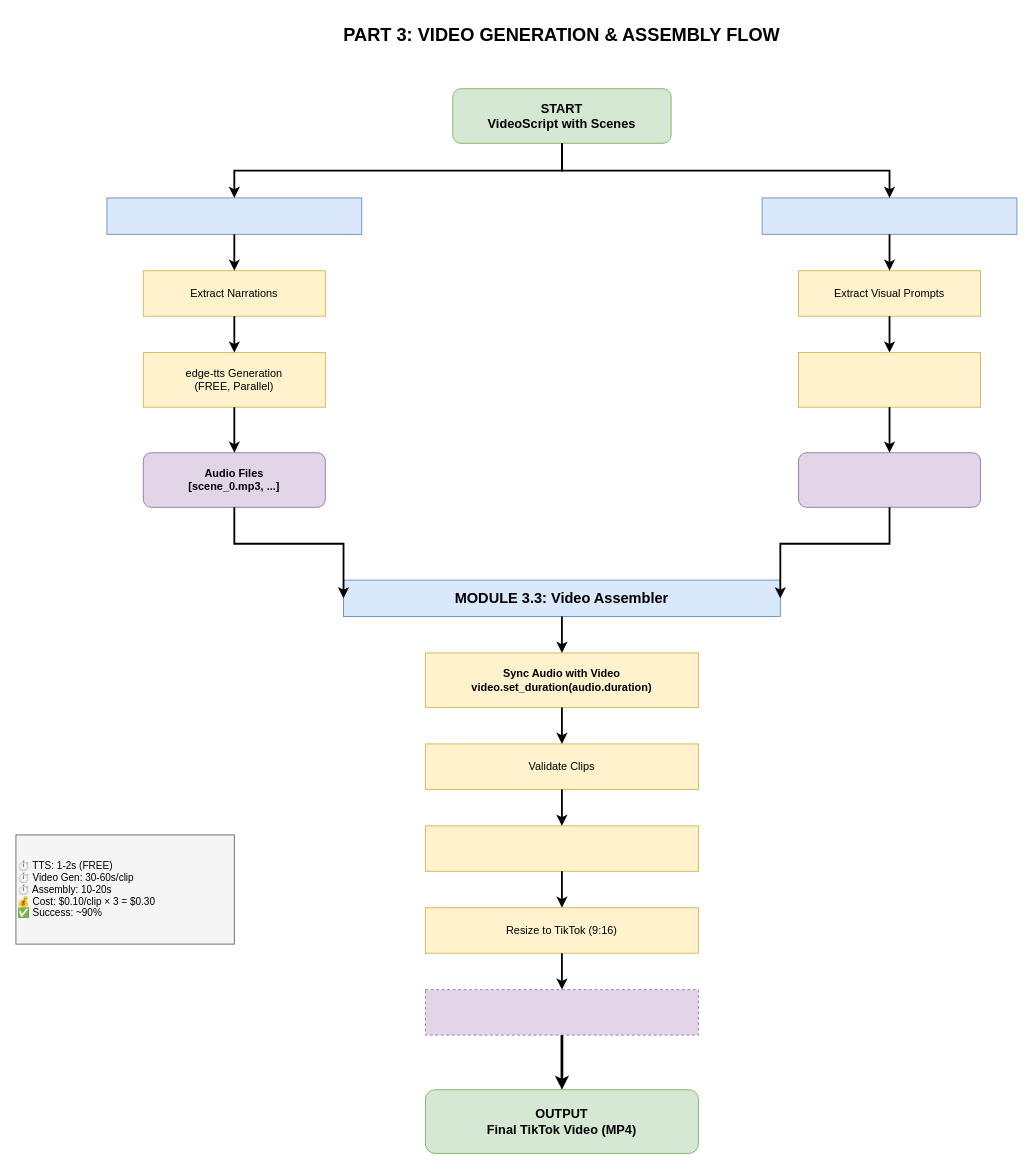
Some shapes in this 1033 by 1169 pixel diagram are drawn without their labels. The centre of each missing label's shape, as x and y in pixels:
Add Subtitles (Optional): point 561,1012
Call Veo3 API (Parallel for each scene): point 889,379
Concatenate Videos: point 561,848
MODULE 3.1: TTS Generator: point 234,215
MODULE 3.2: Veo3 Client: point 889,215
Video Clips [scene_0.mp4, ...]: point 889,479
